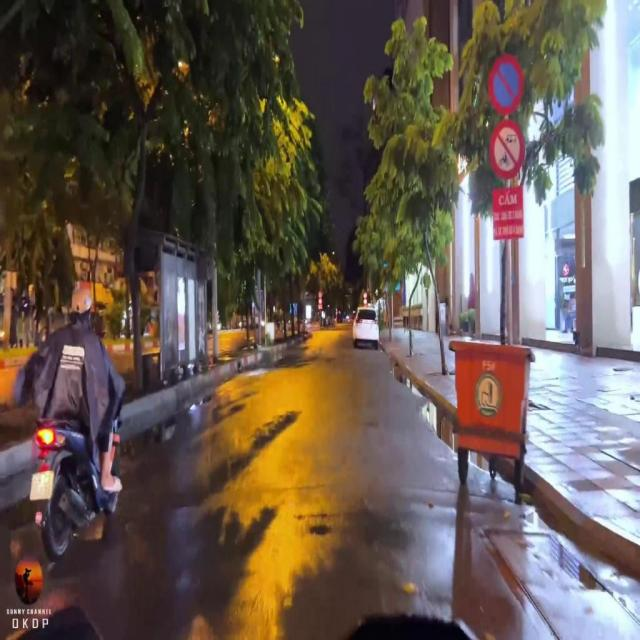cam_do_xe: (488, 52, 524, 114)
cam_xe_2_banh_va_xe_3_banh_co_dong_co: (489, 118, 525, 180)
